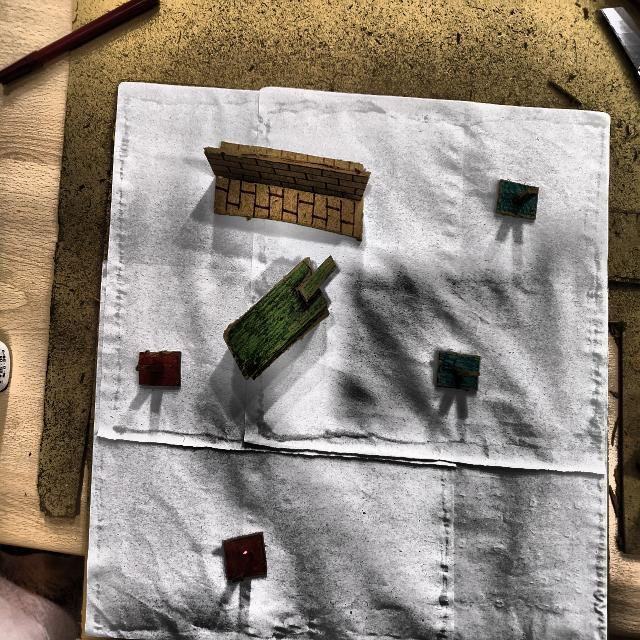Tank: (223, 259, 337, 385)
Wall: (203, 143, 371, 245)
enemy: (218, 529, 273, 589), (132, 346, 191, 395)
friend: (432, 340, 487, 406), (490, 177, 543, 225)
